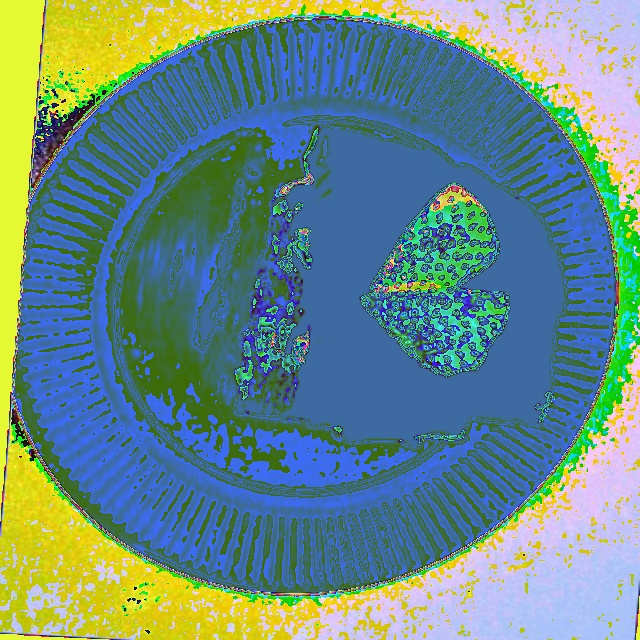background: (232, 125, 569, 448)
